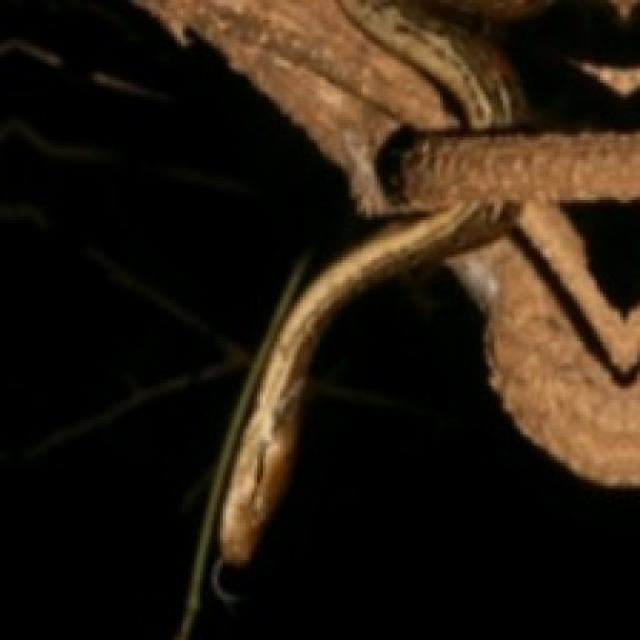reticulated python: (194, 200, 523, 640), (337, 0, 531, 131)
